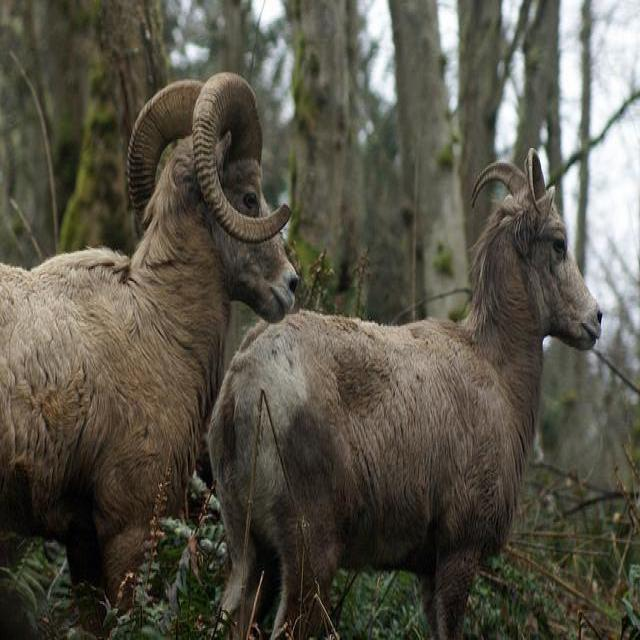Sheep: (204, 146, 604, 638), (2, 70, 300, 631)
